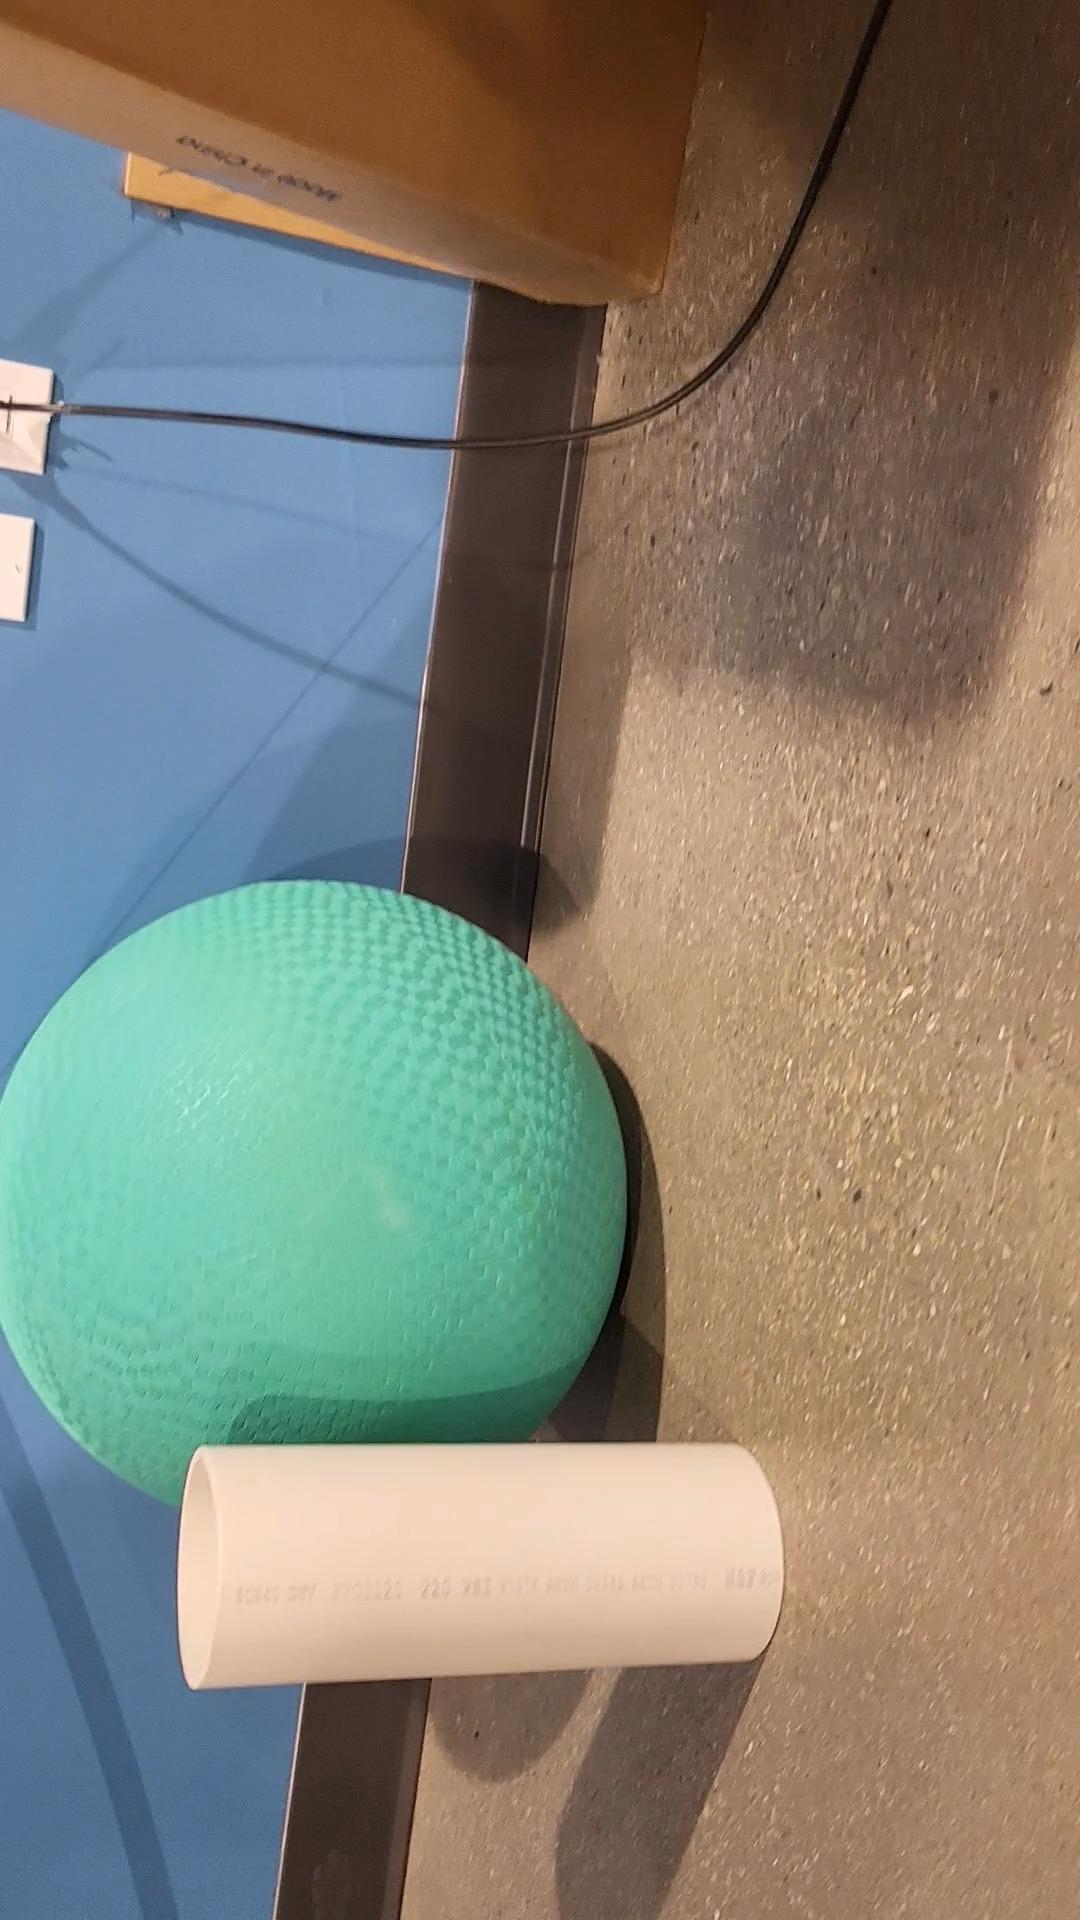algae: (0, 882, 625, 1518)
coral: (182, 1435, 782, 1688)
